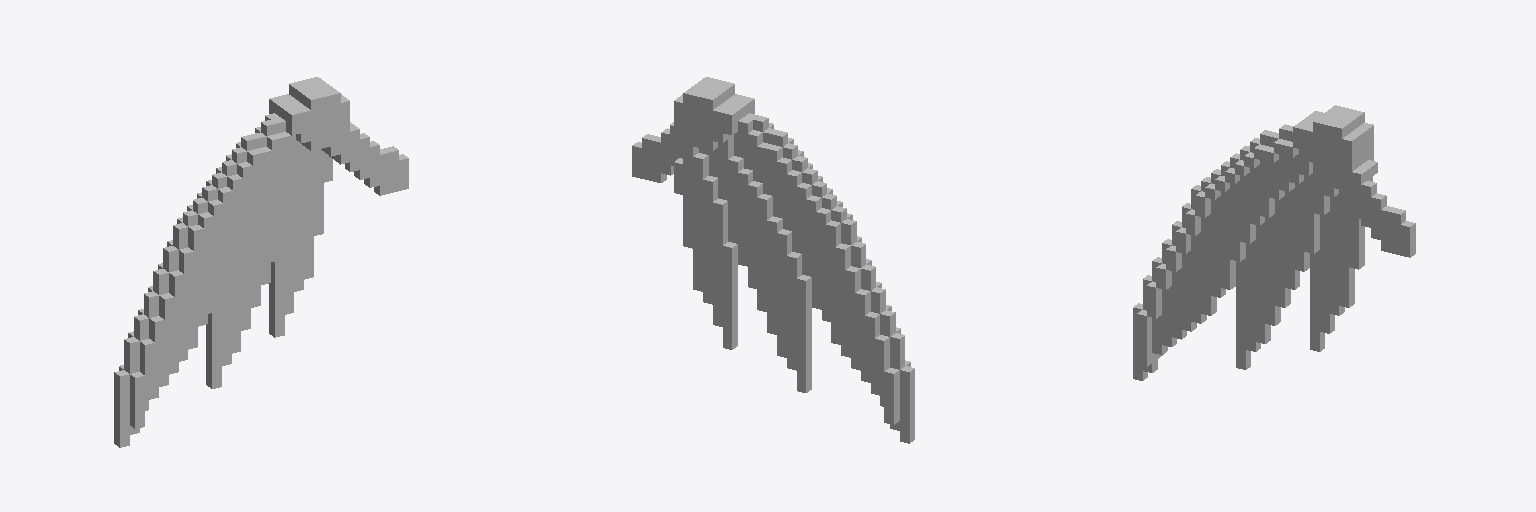
The model's file is wing_1.obj.
3 renders of one model, left to right at view 1: azimuth 30°, elevation 25°; view 2: azimuth 150°, elevation 25°; view 3: azimuth 330°, elevation 25°, orthographic.
Parts seen in each view (by area): view 1: wing_1; view 2: wing_1; view 3: wing_1.
Boxes of the visible parts, box(x1,y1,x2,y2) form: wing_1: box(114, 77, 408, 447); wing_1: box(632, 77, 914, 443); wing_1: box(1133, 105, 1415, 380).
Bounding box in the file's own units: 14.5 × 15 × 2.